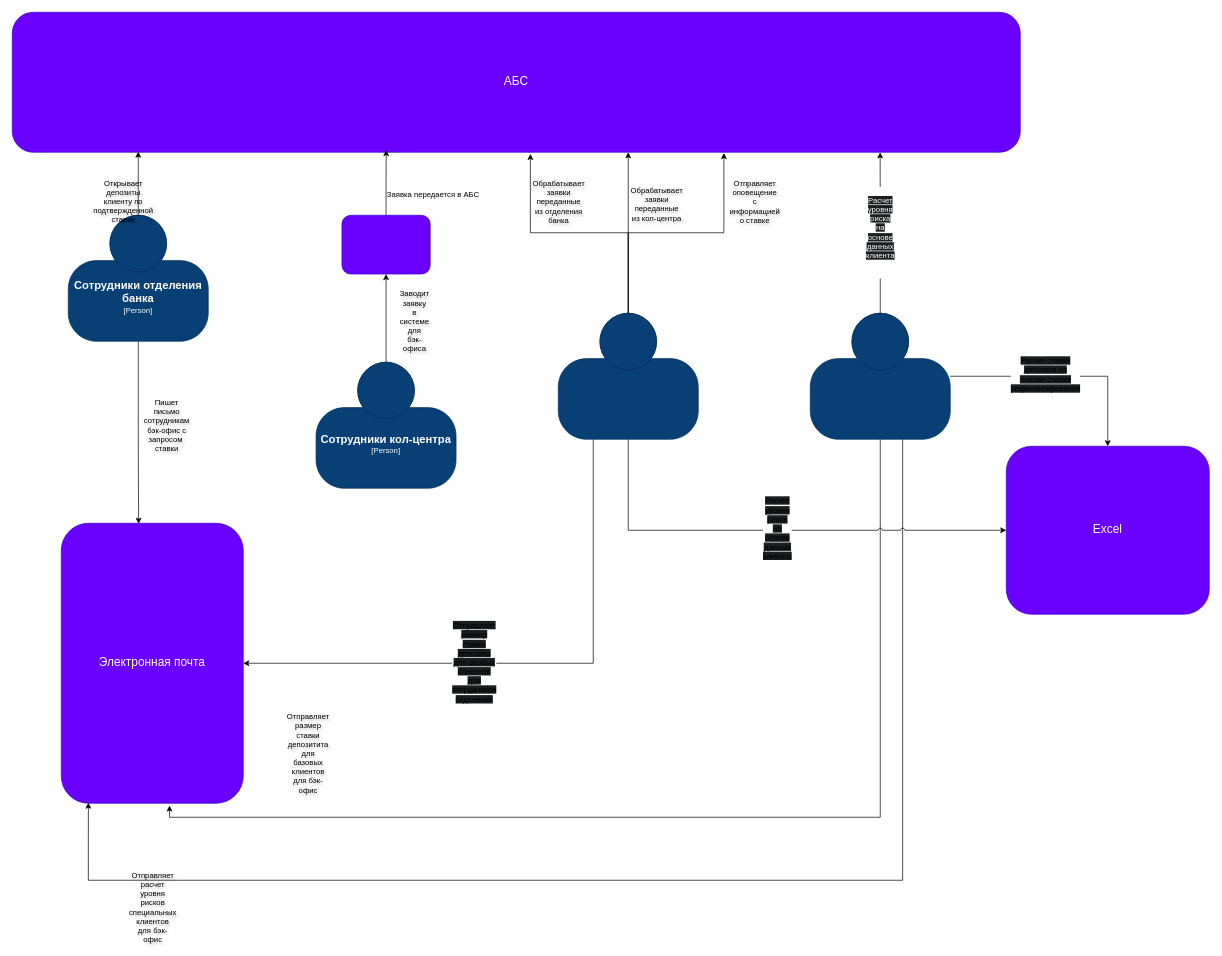
This 1222x956 diagram has some shape labels left out. The shapes that lost their labels are listed below. From the top down, each one's box as (x1, y1, x2, y2) in pixels, then its label:
(341, 215, 430, 274): Система кол-центра
(558, 313, 698, 439): Сотрудники отдела бэк-офис [Person]
(810, 313, 950, 439): Сотрудники отдела кредитования [Person]
